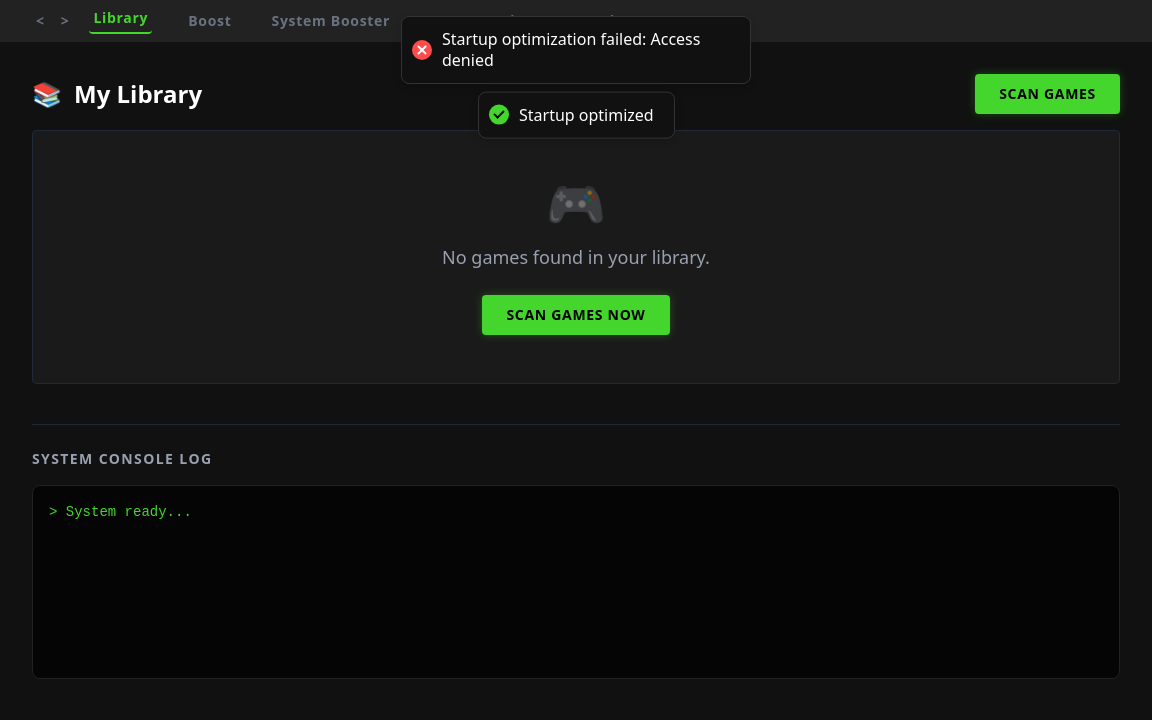
Test: App › handleOptimizeStartup › handles network/backend error (window.eel)
Click the tab "System Booster": (331,21) [268,11,394,31]
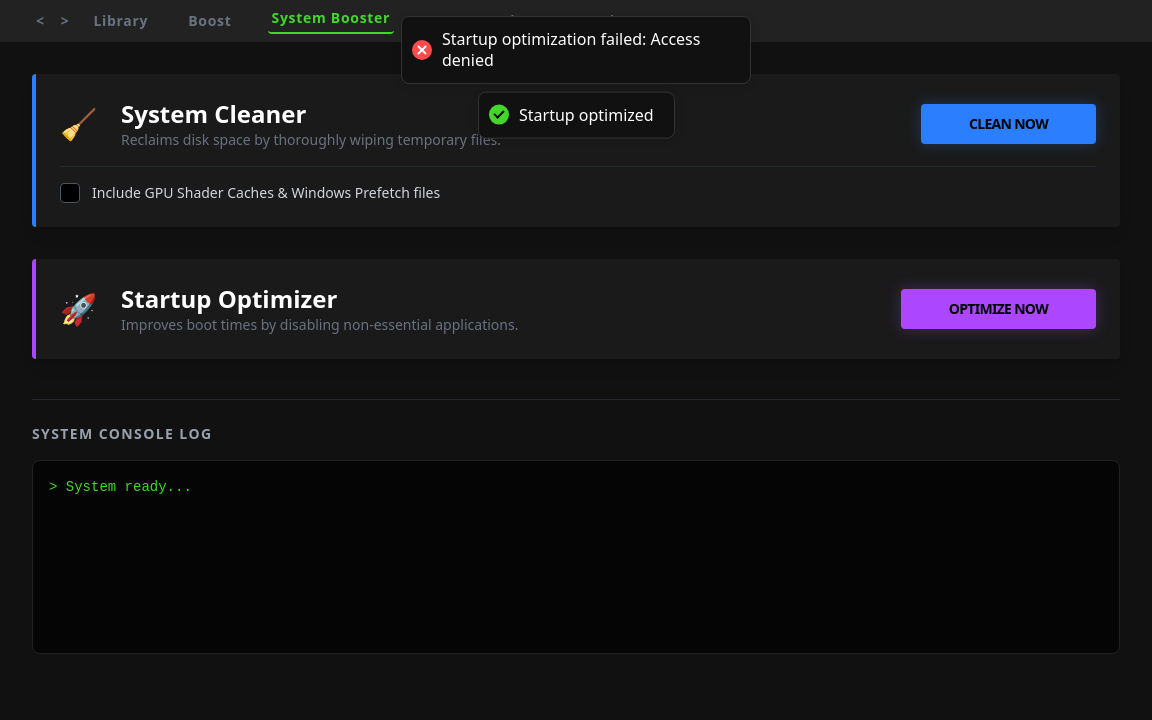
Click the button "Optimize Now": (998,309) [901,289,1096,329]
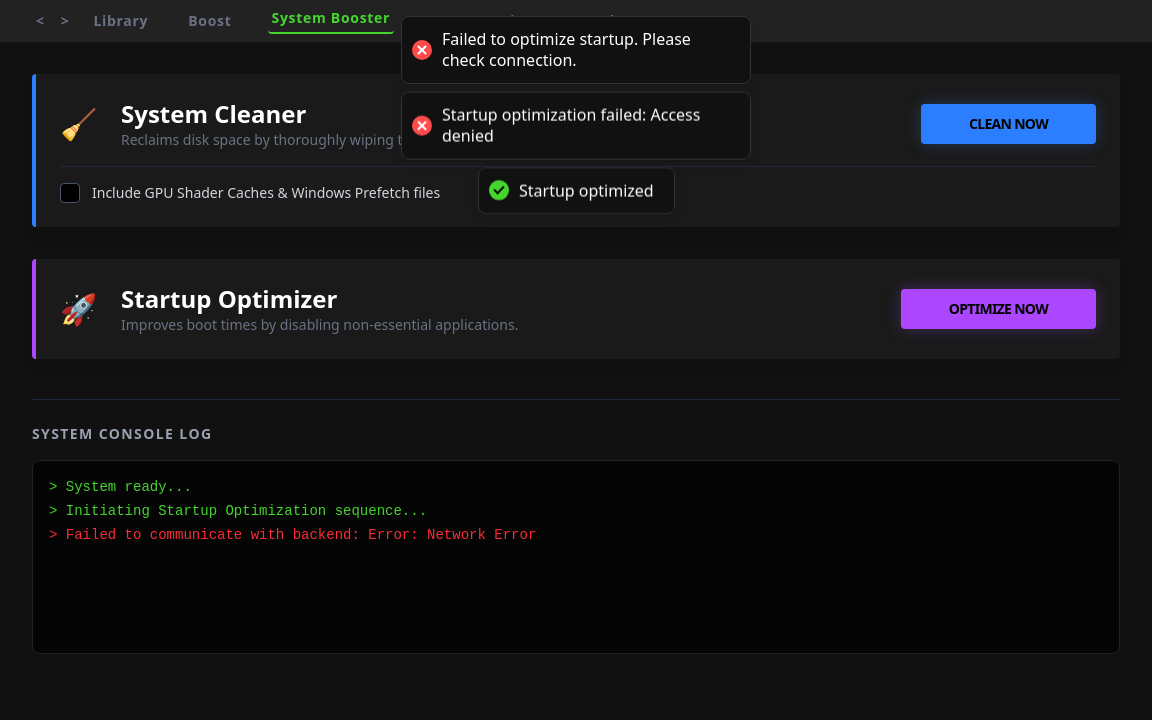
Check: the text "> Failed to communicate with backend: Error: Network Error" is shown, box [49,527,536,543]
